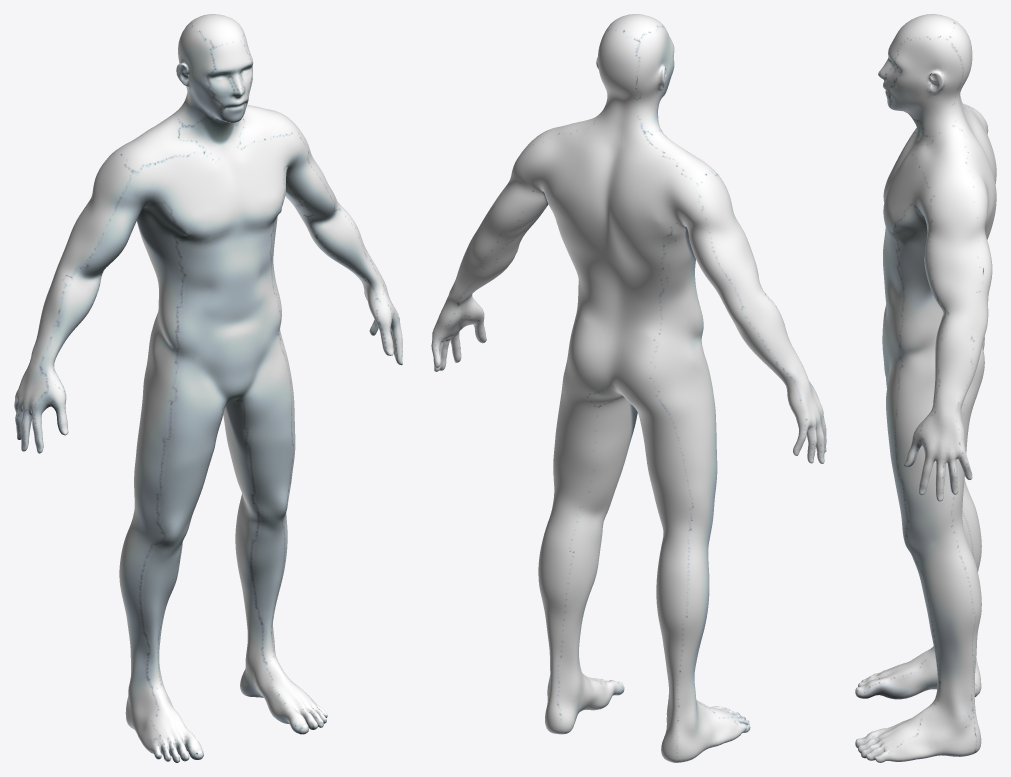
File: FullHuman_05.glb
3 views of the same model, side by side, from view 1: azimuth 30°, elevation 25°; view 2: azimuth 150°, elevation 25°; view 3: azimuth 270°, elevation 25° (orthographic).
Parts seen in each view (by area): view 1: FinalBaseMesh; view 2: FinalBaseMesh; view 3: FinalBaseMesh.
Part boxes in pixels (x1,y1,x2,y2): FinalBaseMesh: (14, 14, 402, 762); FinalBaseMesh: (431, 14, 826, 762); FinalBaseMesh: (855, 14, 996, 762).
Size of the model in its own units: 1.28 by 2.27 by 0.4112.
1 material, 1 textured.
